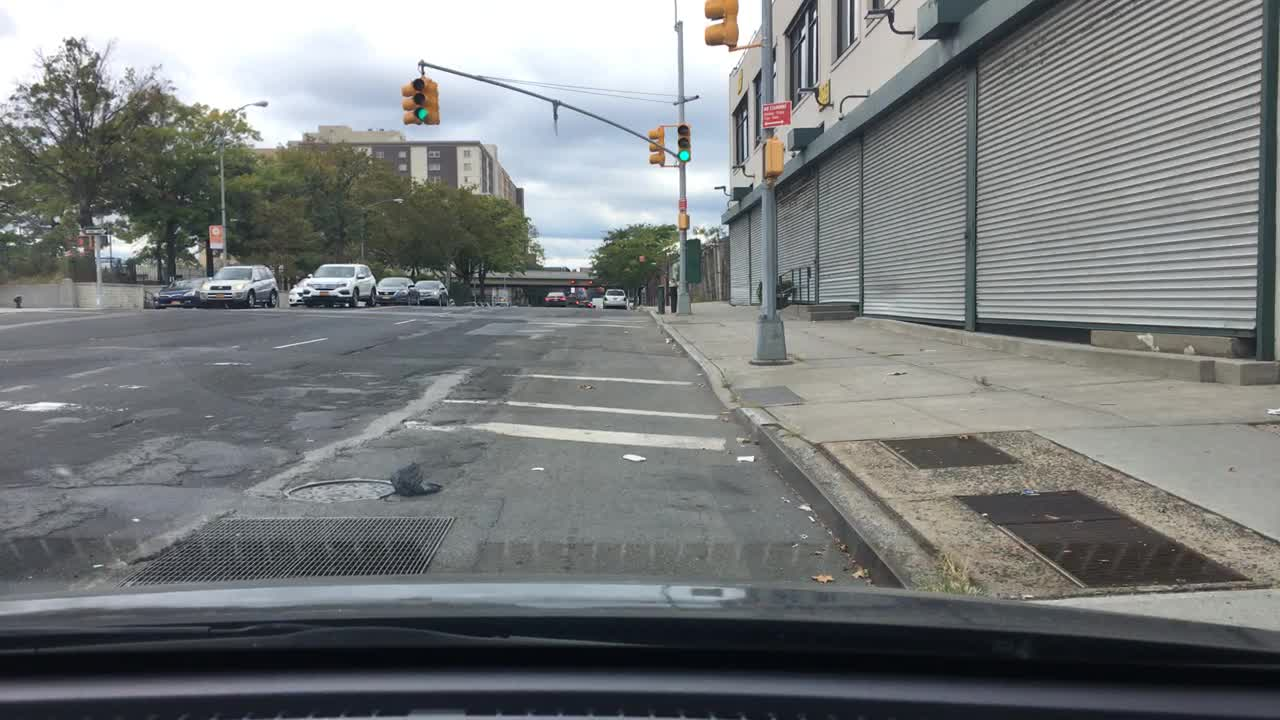car: (297, 260, 380, 310), (196, 263, 282, 310), (149, 274, 212, 310), (374, 274, 423, 309), (411, 277, 455, 309), (287, 274, 313, 309), (600, 288, 631, 310), (542, 288, 570, 309), (573, 296, 591, 310), (563, 291, 580, 305)
traffic light: (699, 0, 741, 47), (413, 73, 430, 127), (647, 122, 666, 166), (425, 76, 442, 125), (675, 118, 692, 166), (399, 80, 415, 125), (74, 232, 91, 251), (98, 236, 112, 248)
traffic sign: (755, 99, 794, 125), (79, 223, 112, 236), (206, 222, 222, 248), (675, 195, 689, 213)
